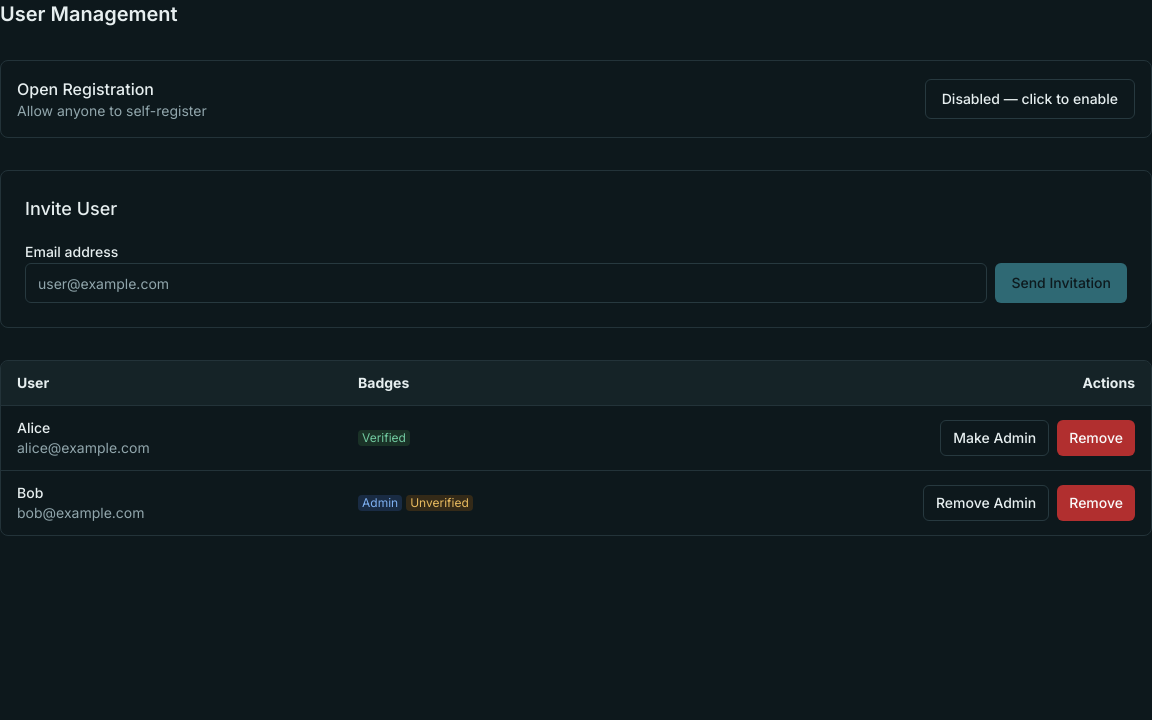
it: UsersClient — remove user › lists projects to be transferred in the dialog
Expected: the text "Alice" is shown, [17, 419, 50, 436]
Click the button "Remove" in the row of "alice@example.com" at [1096, 438], box [1057, 420, 1135, 456]
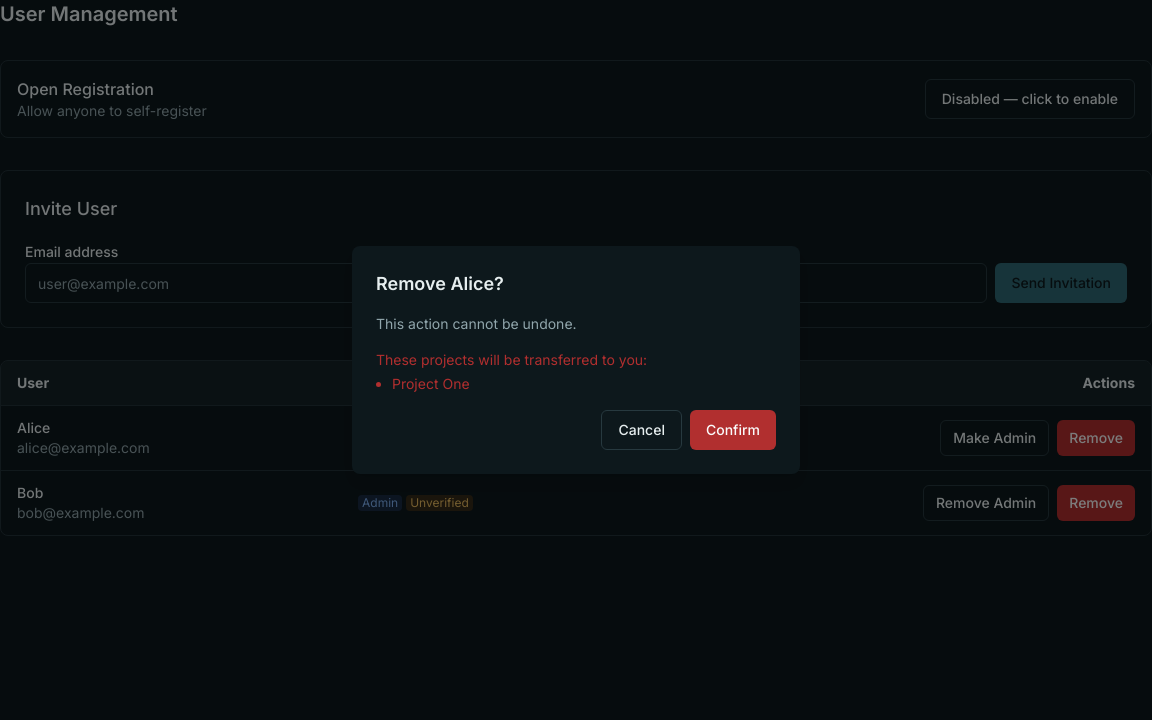
Expected: the list item "Project One" is shown, [392, 375, 470, 392]
